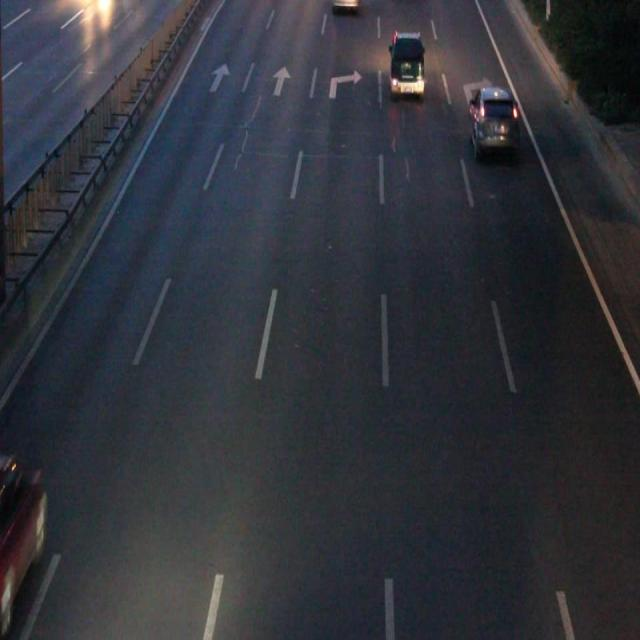car: (1, 455, 45, 612), (468, 87, 516, 156), (388, 31, 423, 95)
